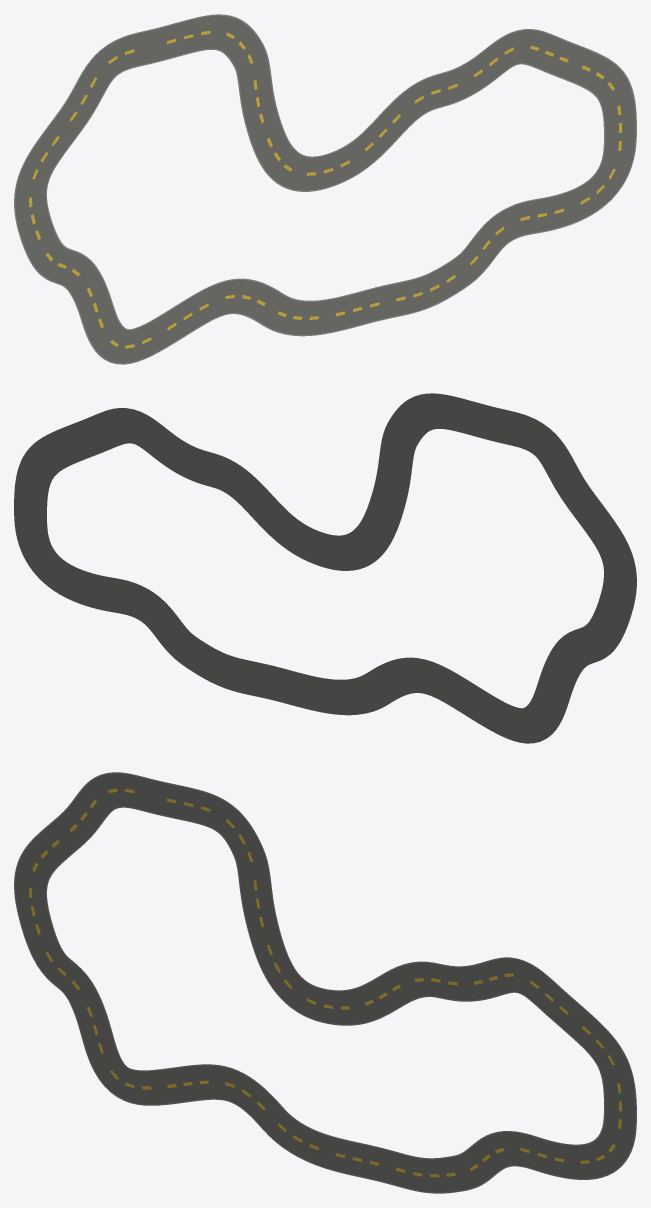
Rendered from track.obj.
The picture shows the model from 3 angles, top to bottom: view 1: azimuth 30°, elevation 25°; view 2: azimuth 150°, elevation 25°; view 3: azimuth 330°, elevation 25°; orthographic projection.
Bounding box in the file's own units: 20.16 × 10.78 × 0.002.
